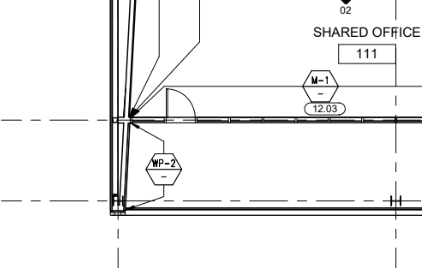door: (164, 86, 196, 122)
